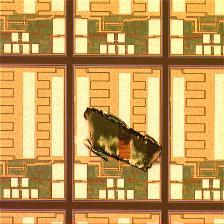PARTICLE: (77, 106, 166, 174)
